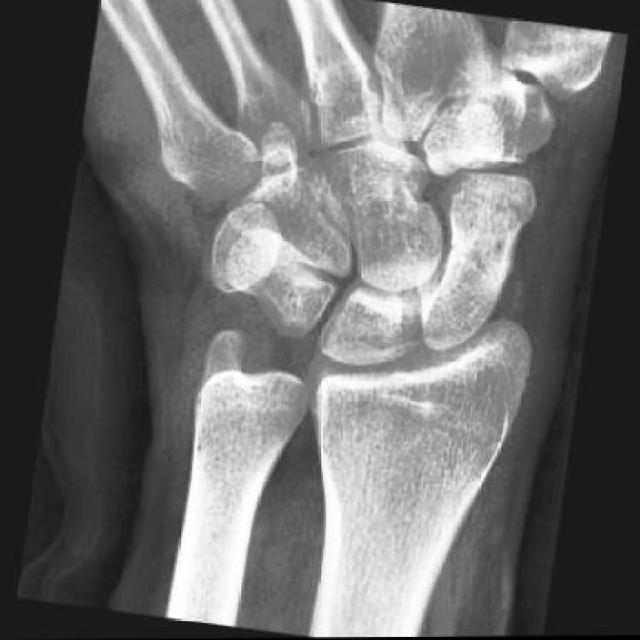Fracture: (432, 226, 520, 301)
